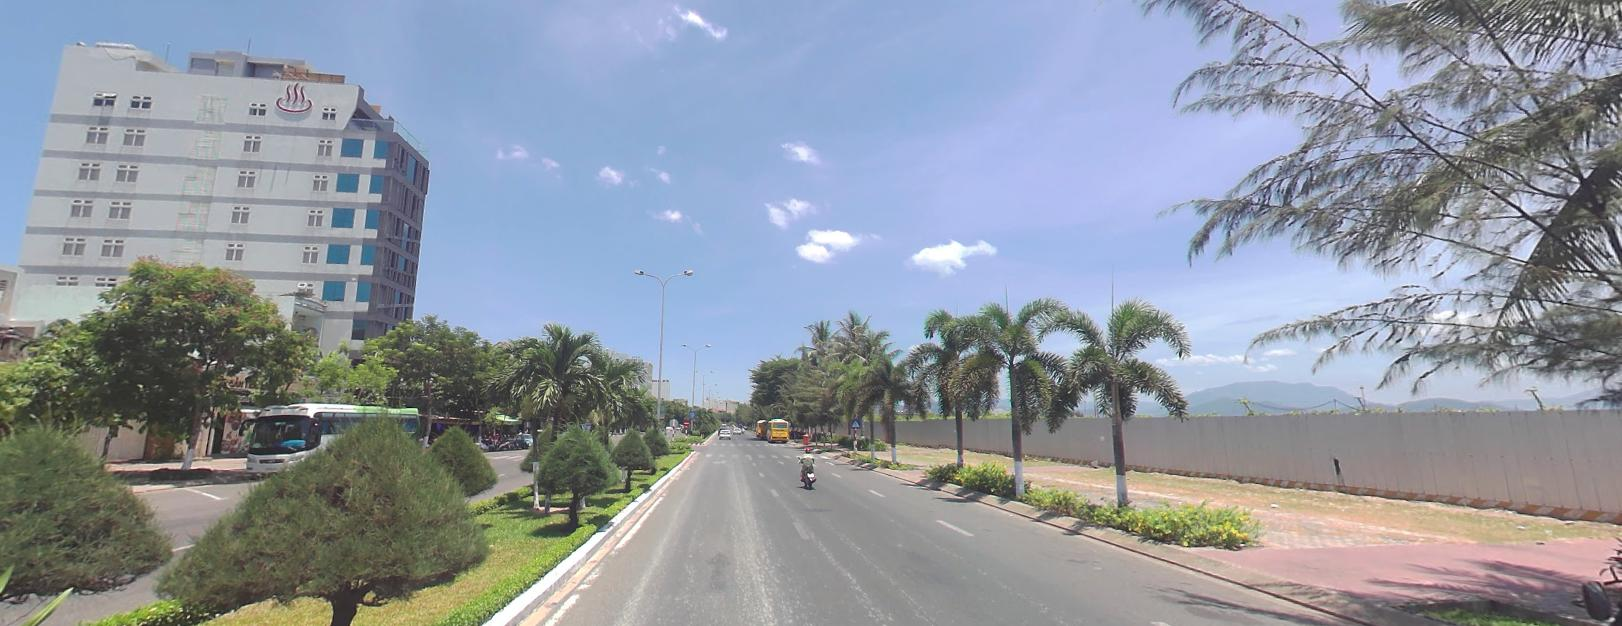Cam nguoc chieu: (683, 418, 689, 424)
